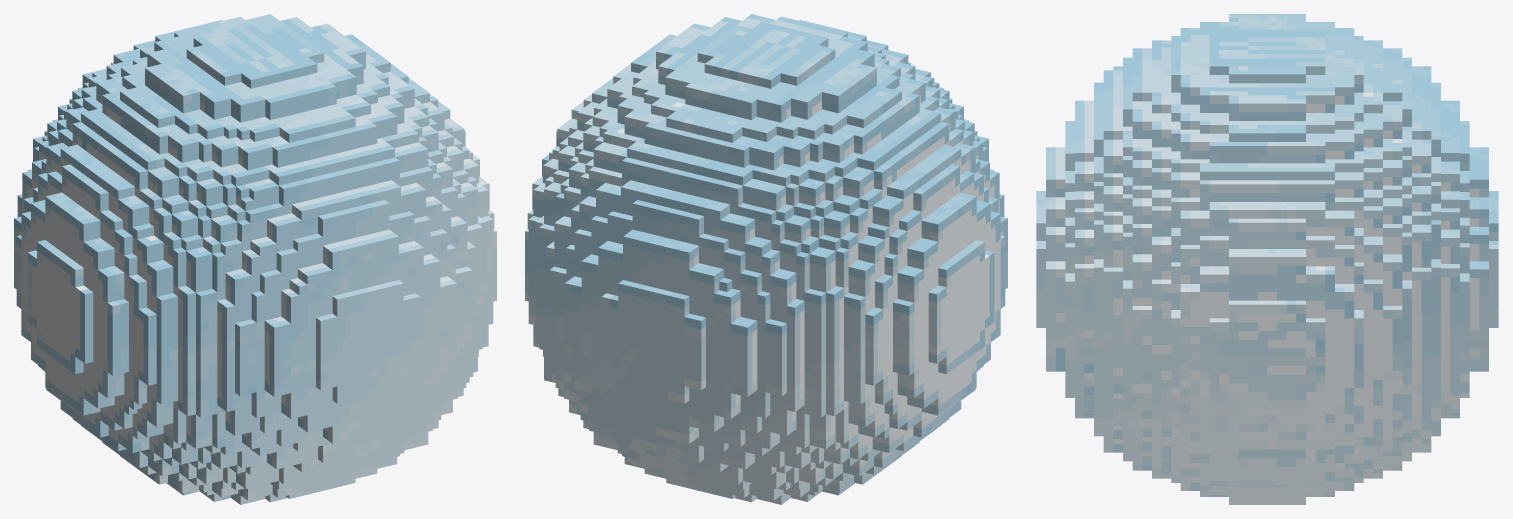
Rendered from wings-2.obj.
The picture shows the model from 3 angles, left to right: view 1: azimuth 30°, elevation 25°; view 2: azimuth 150°, elevation 25°; view 3: azimuth 270°, elevation 25°; orthographic projection.
Size of the model in its own units: 4.8 by 4.8 by 4.8.
1 material, 1 textured.
